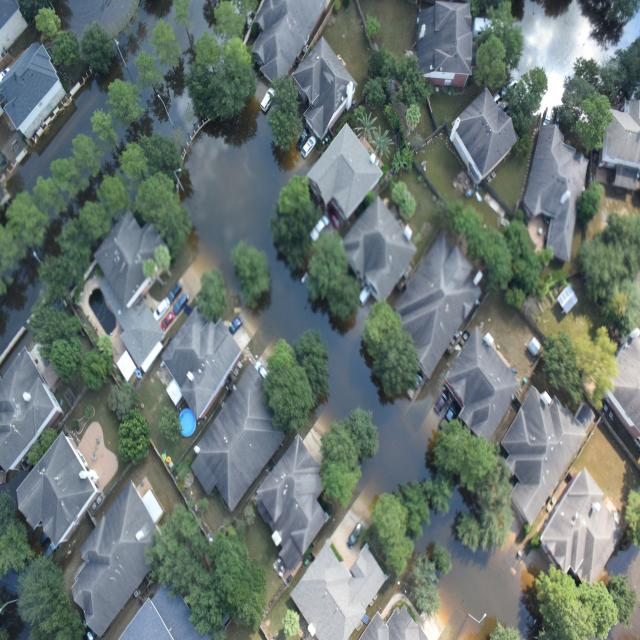fire: (181, 104, 424, 480), (416, 492, 529, 633), (513, 0, 640, 110), (7, 77, 107, 196), (0, 254, 38, 344), (121, 32, 139, 73)
